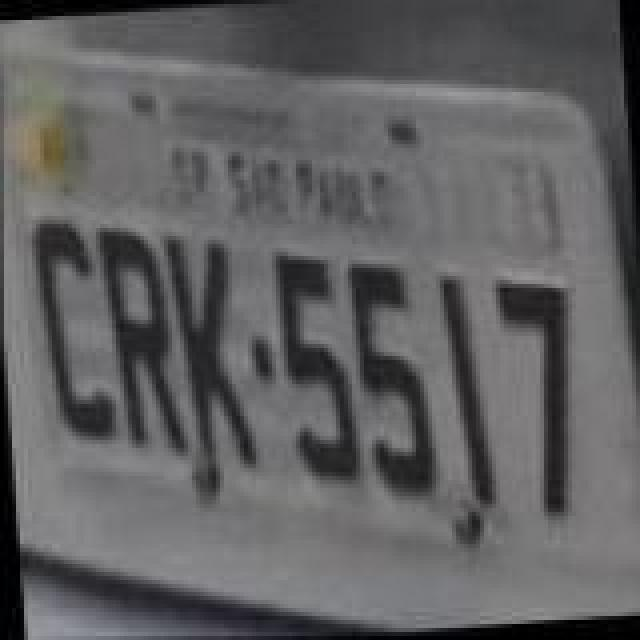1: (436, 274, 496, 514)
5: (348, 256, 440, 500), (272, 248, 364, 484)
7: (494, 276, 582, 524)
C: (30, 210, 118, 446)
K: (162, 226, 258, 474)
R: (98, 220, 194, 468)
